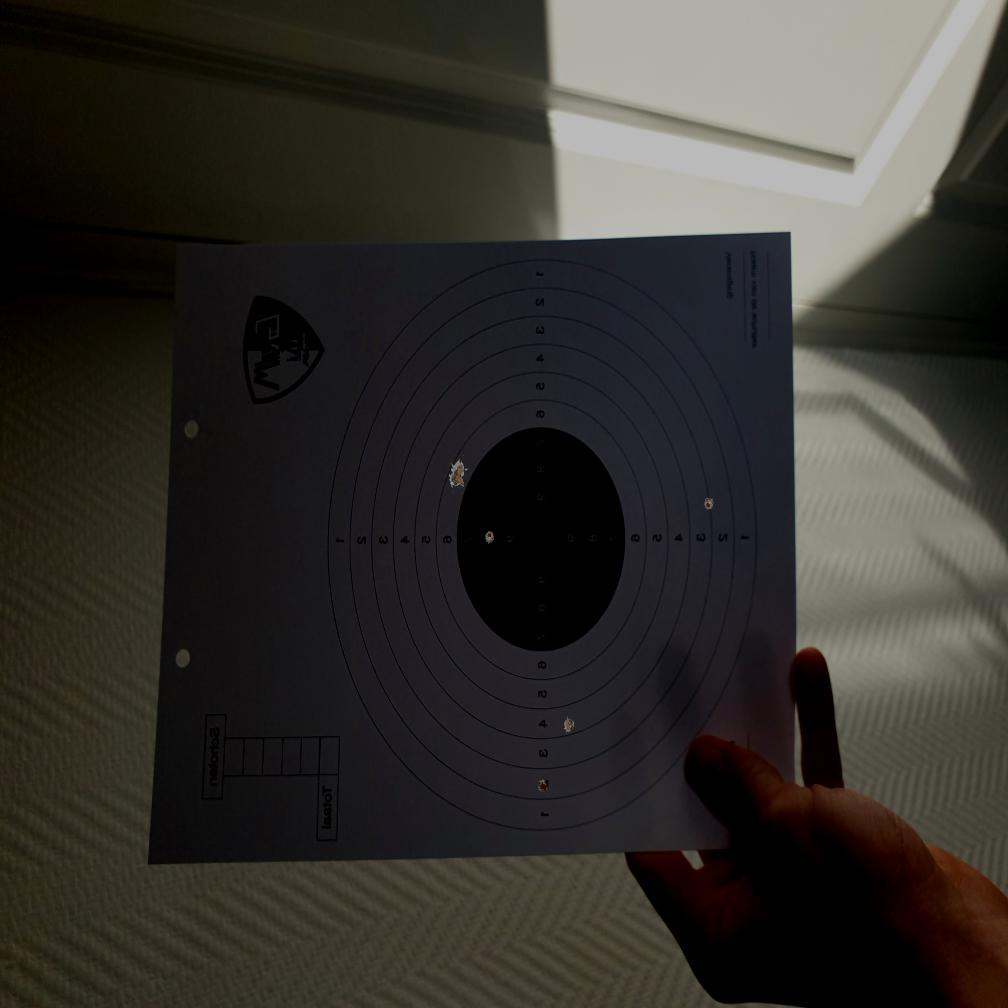2: (538, 779, 548, 793)
3: (704, 497, 713, 510)
4: (561, 715, 577, 736)
6: (449, 459, 467, 474), (449, 473, 466, 488)
8: (484, 530, 495, 545)
Target: (327, 255, 758, 833)
black_contour: (456, 427, 626, 652)
